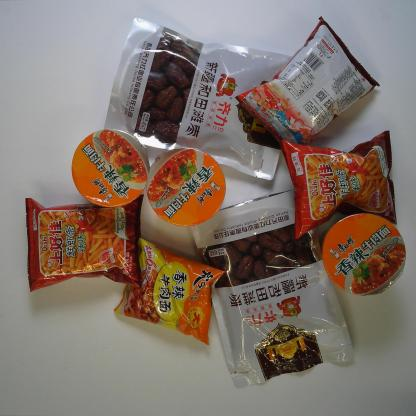Dried Food: (191, 187, 358, 391), (103, 17, 297, 182)
Instant Noodles: (113, 238, 225, 346), (322, 213, 406, 296), (145, 146, 227, 226), (71, 128, 149, 209)
Puffed Food: (235, 15, 380, 151), (280, 130, 397, 240), (25, 194, 144, 292)
